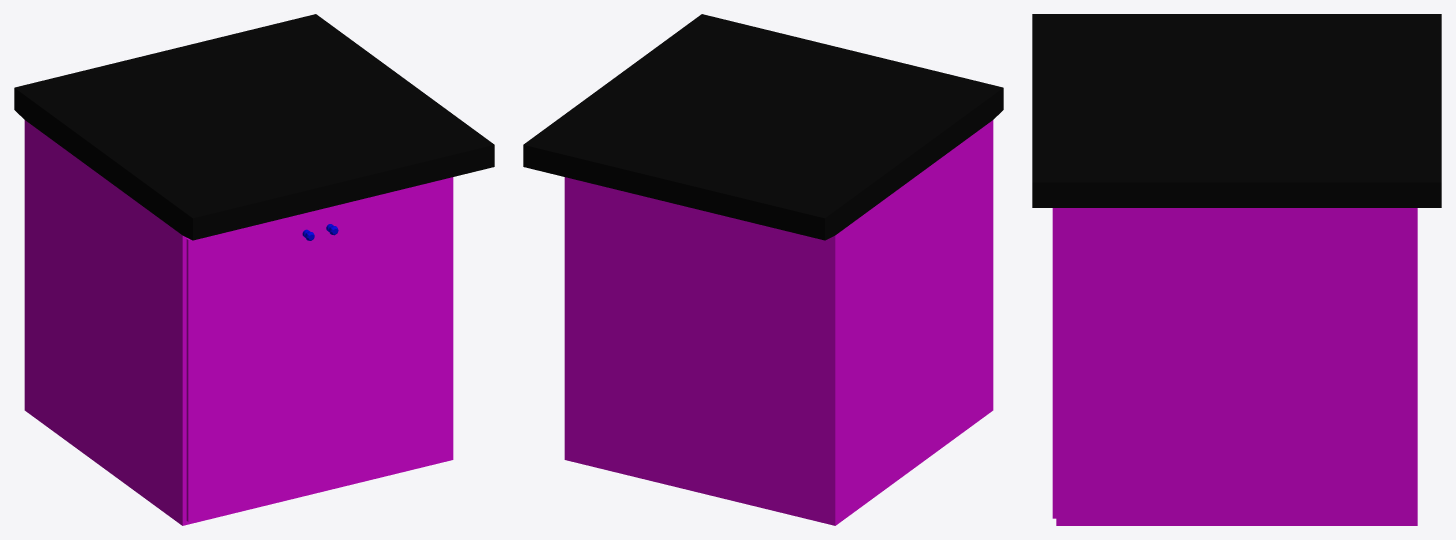
Rendered from Comoda_01.fbx.
The picture shows the model from 3 angles, left to right: view 1: azimuth 30°, elevation 25°; view 2: azimuth 150°, elevation 25°; view 3: azimuth 270°, elevation 25°; orthographic projection. The views are drawn at different scales.
Parts seen in each view (by area): view 1: pCube2; view 2: pCube2; view 3: pCube2.
Boxes of the visible parts, bbox=[...] form: pCube2: bbox=[14, 14, 494, 525]; pCube2: bbox=[523, 14, 1003, 525]; pCube2: bbox=[1032, 14, 1441, 525].
Size of the model in its own units: 66.33 by 66.18 by 68.01.
